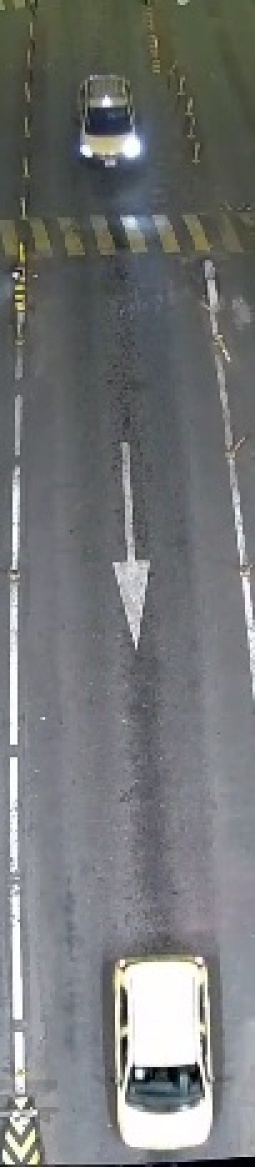car: (111, 948, 224, 1156), (67, 69, 148, 183)
